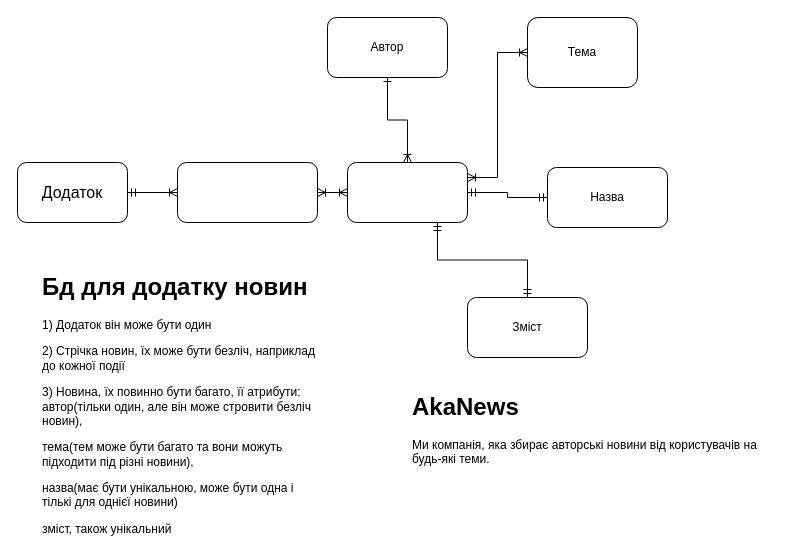
Some shapes in this 795 by 555 pixel diagram are drawn without their labels. The shapes that lost their labels are listed below. From the top down, each one's box as (x1, y1, x2, y2) in pixels, then its label:
(176, 162, 318, 222): Стрічка новин
(346, 162, 468, 222): Новина
